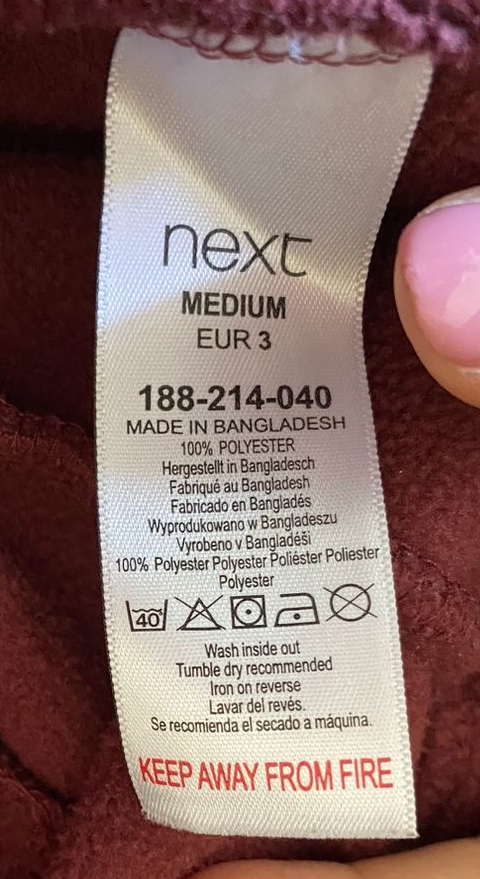do_not_bleach: (176, 593, 227, 637)
do_not_dry_clean: (323, 573, 381, 625)
ironing_at_low_temp: (274, 586, 322, 632)
tumble_drying_low_temps: (227, 591, 271, 631)
wash_at_or_below_40: (121, 592, 171, 636)
